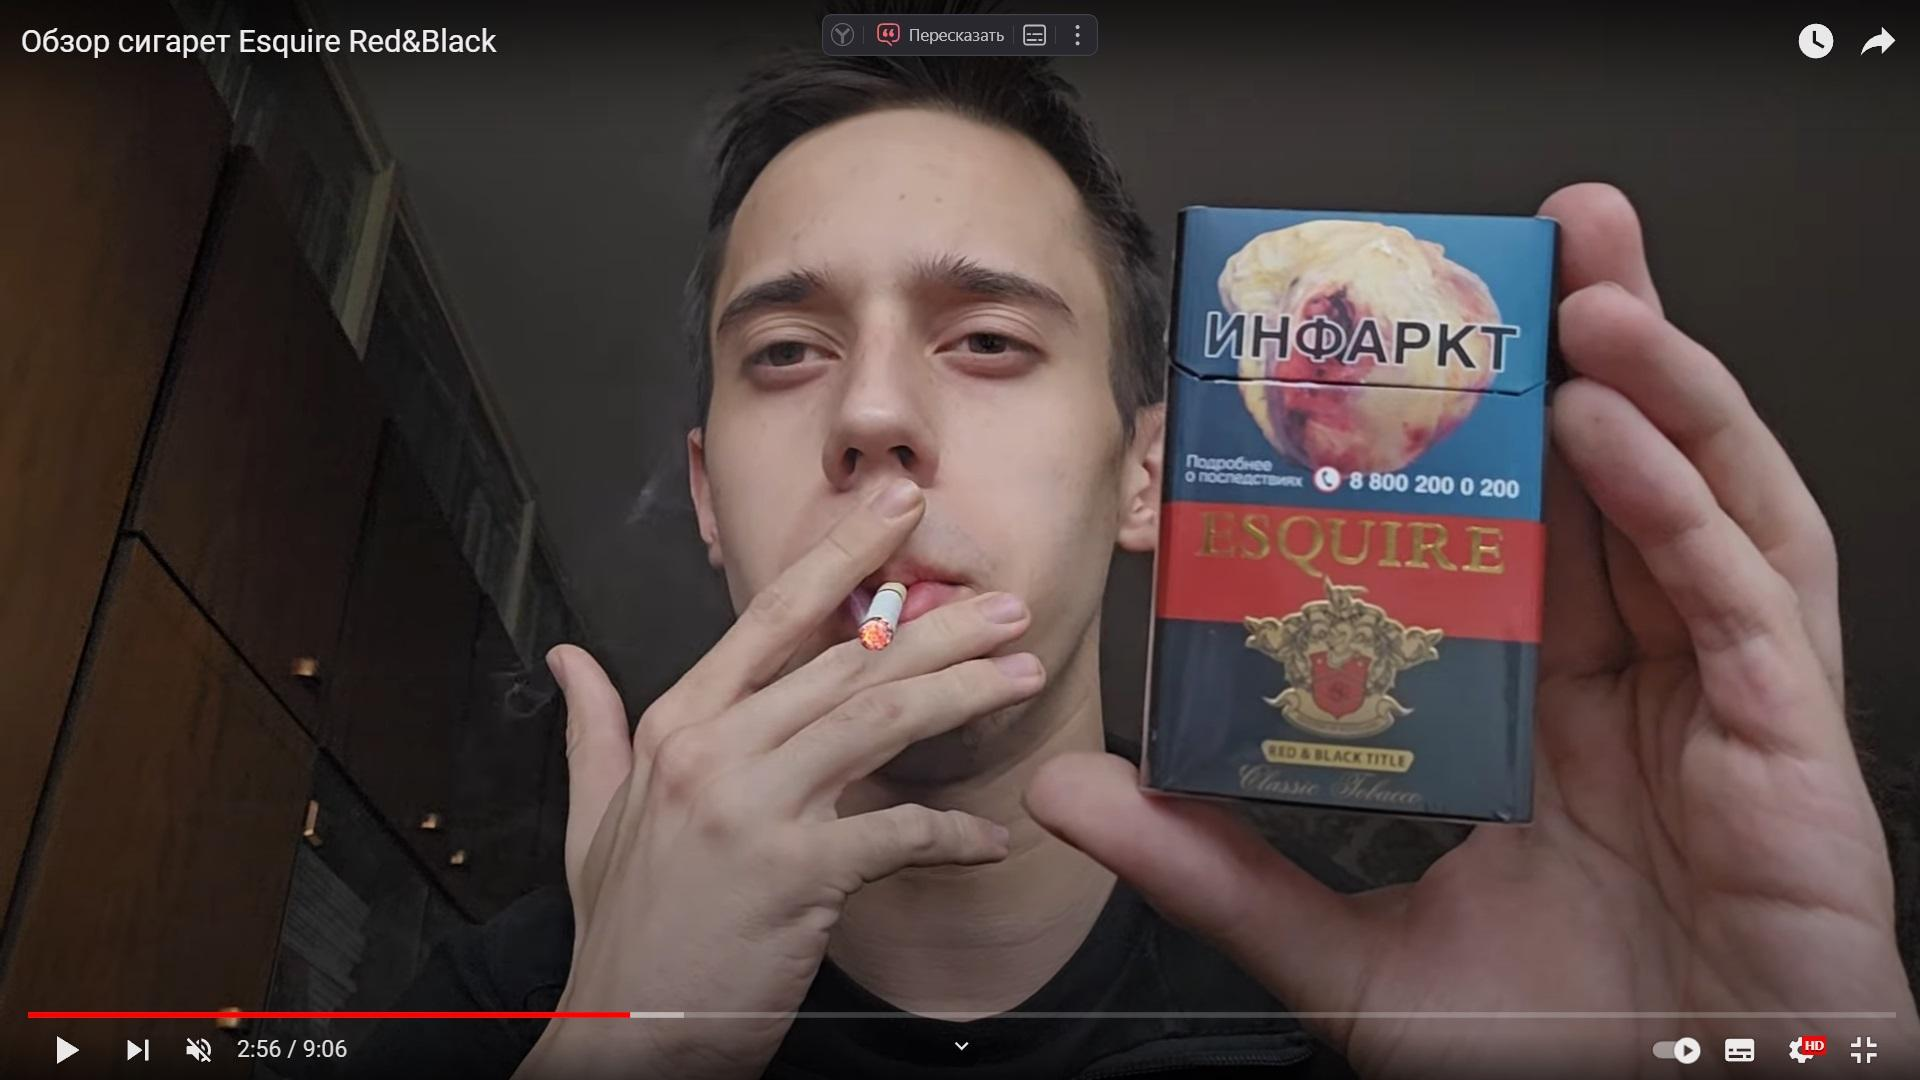cigarette: (857, 582, 910, 650)
